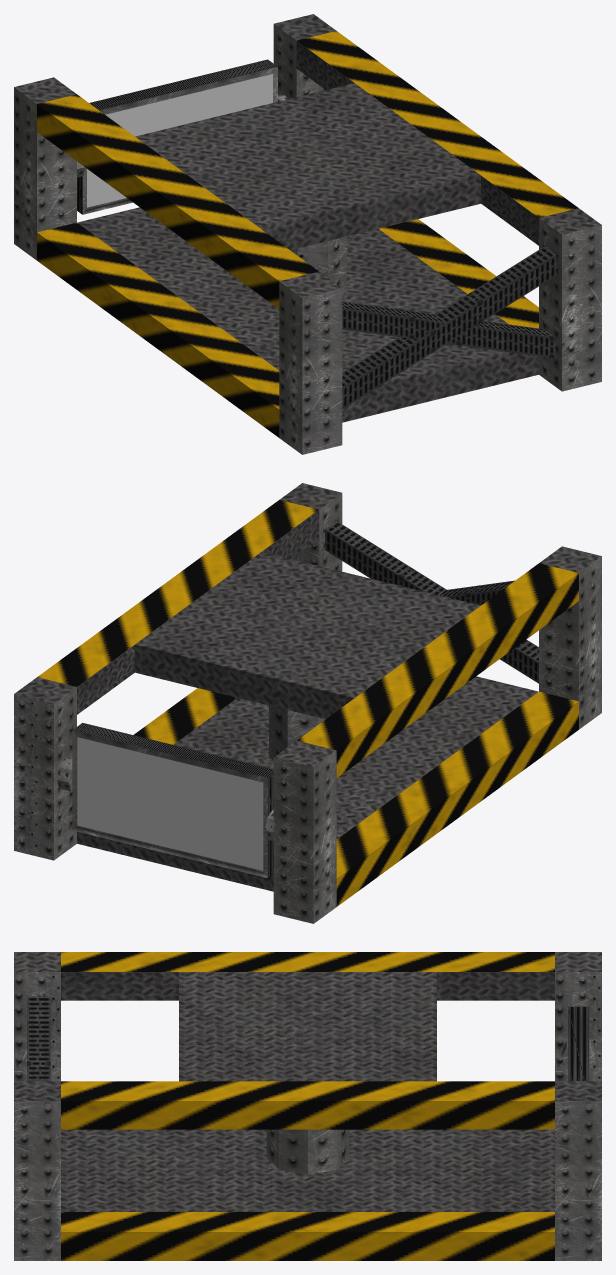
Rendered from Reverse_Run.fbx.
3 views of the same model, one above another, from view 1: azimuth 30°, elevation 25°; view 2: azimuth 150°, elevation 25°; view 3: azimuth 270°, elevation 25° (orthographic).
Visible parts, largest first — view 1: Reverse_Run, Plateform, Screen_Reverse, Piston_Down; view 2: Reverse_Run, Plateform, Screen_Reverse, Piston_Down; view 3: Reverse_Run, Plateform, Piston_Down, Screen_Reverse.
Boxes of the visible parts, x1,y1,x2,y2 form: Reverse_Run: (14,14,601,454); Plateform: (135,83,480,250); Screen_Reverse: (77,59,277,214); Piston_Down: (290,236,346,291); Reverse_Run: (14,483,601,923); Plateform: (135,552,480,719); Screen_Reverse: (72,723,273,877); Piston_Down: (269,705,325,760); Reverse_Run: (14,952,601,1260); Plateform: (179,972,436,1081); Piston_Down: (266,1129,349,1174); Screen_Reverse: (568,1006,589,1081).
Size of the model in its own units: 3 by 1.5 by 5.
